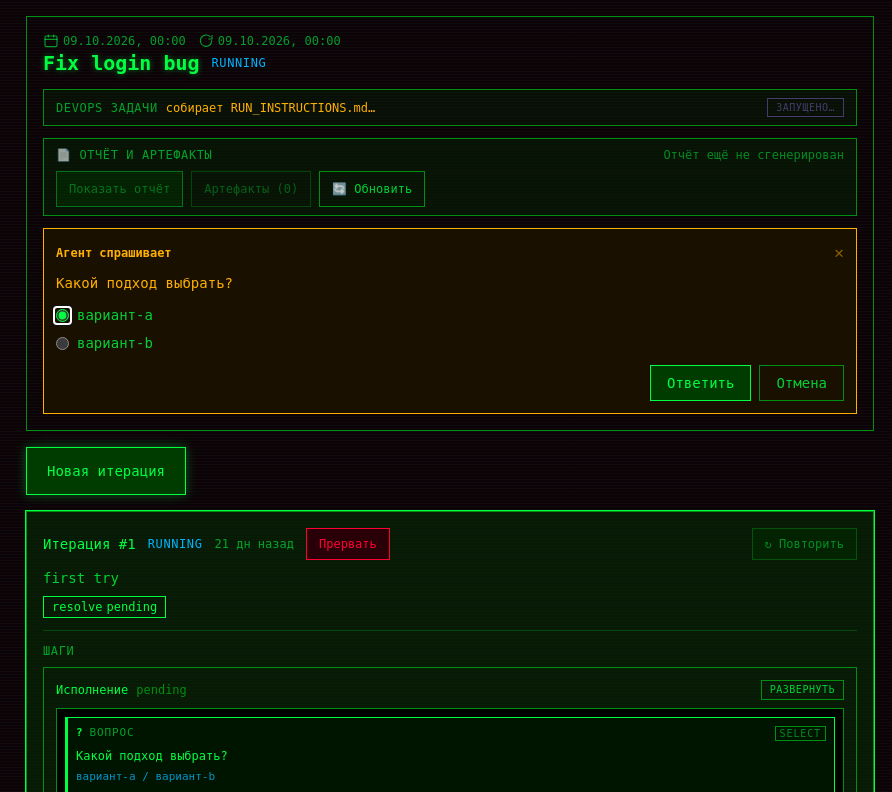
Test case: TaskDetail — интерактивный вопрос (inline) › шаг pending, итерация running: inline-вопрос и radio кликабелен
Expected: the heading "Fix login bug" is shown, x1=43 y1=49 x2=200 y2=77
Click the radio button labelled "вариант-b": (62, 343) x1=56 y1=337 x2=69 y2=350
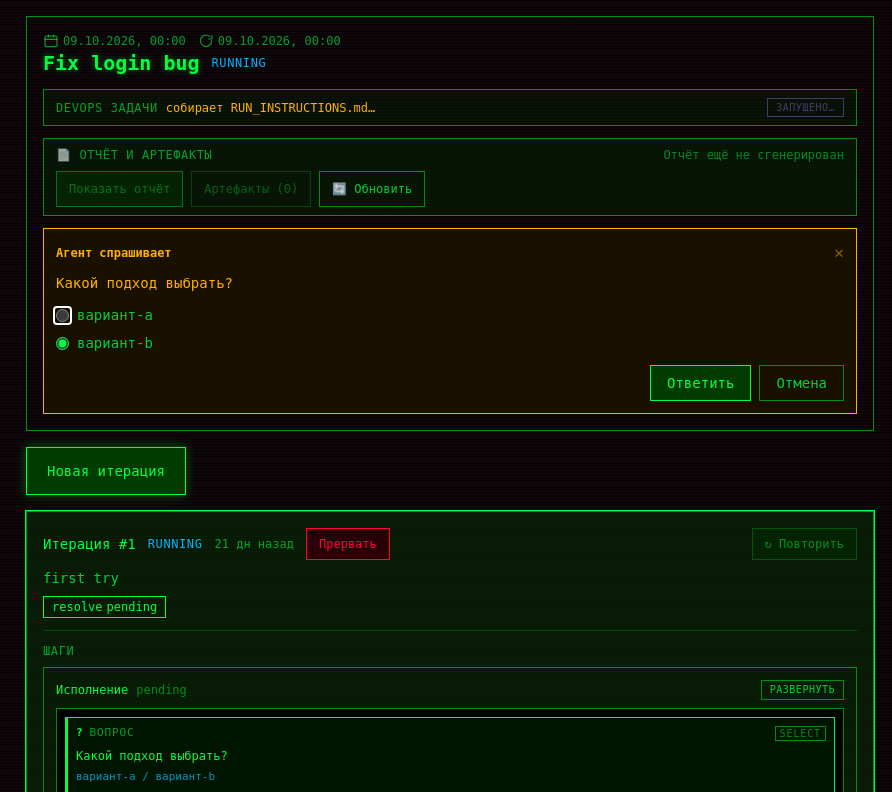
Expected: the radio button labelled "вариант-b" is checked, x1=56 y1=337 x2=69 y2=350
Expected: the radio button labelled "вариант-a" is not checked, x1=56 y1=309 x2=69 y2=322
